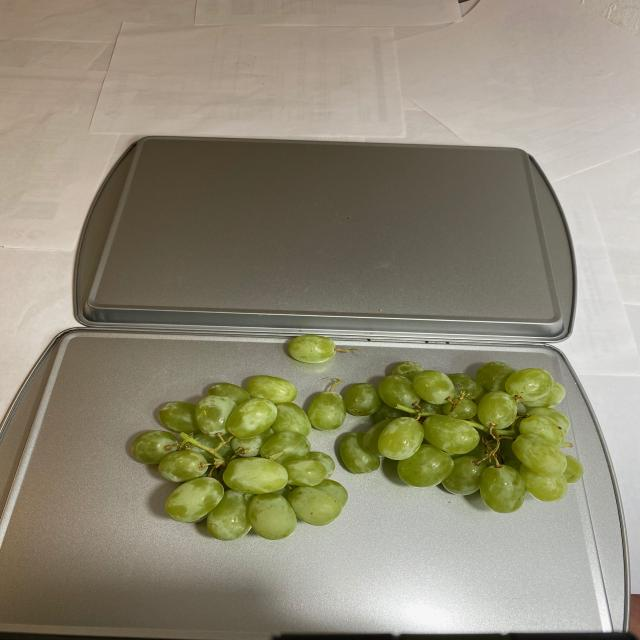grapes: (127, 339, 580, 546)
